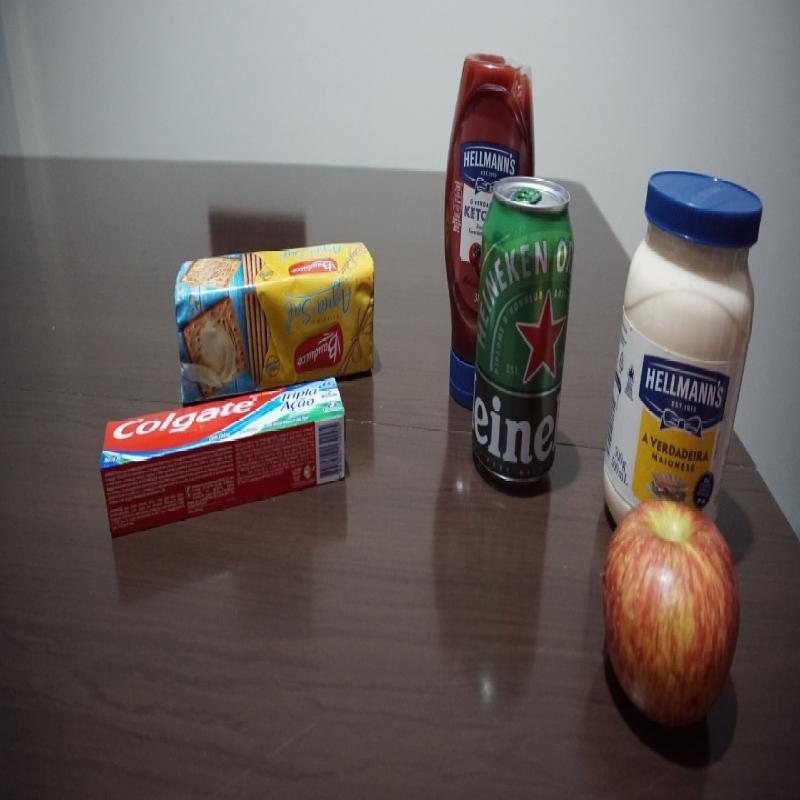Apple: (596, 500, 744, 734)
Beer can: (474, 178, 570, 482)
Cracker: (170, 238, 380, 372)
Ketchup: (440, 33, 540, 184)
Mayonnaise: (606, 158, 757, 492)
Toothpaste: (102, 378, 346, 564)
